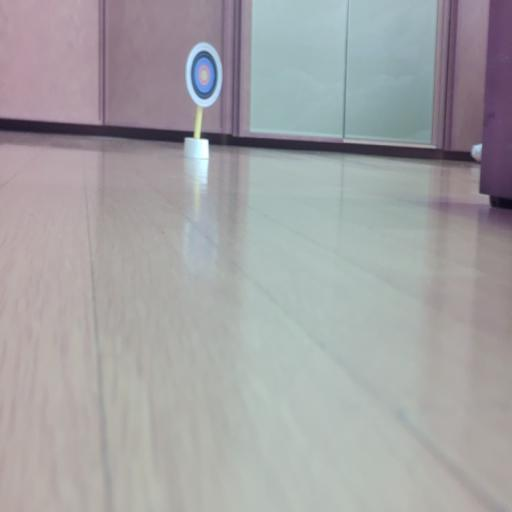target: (185, 43, 222, 108)
